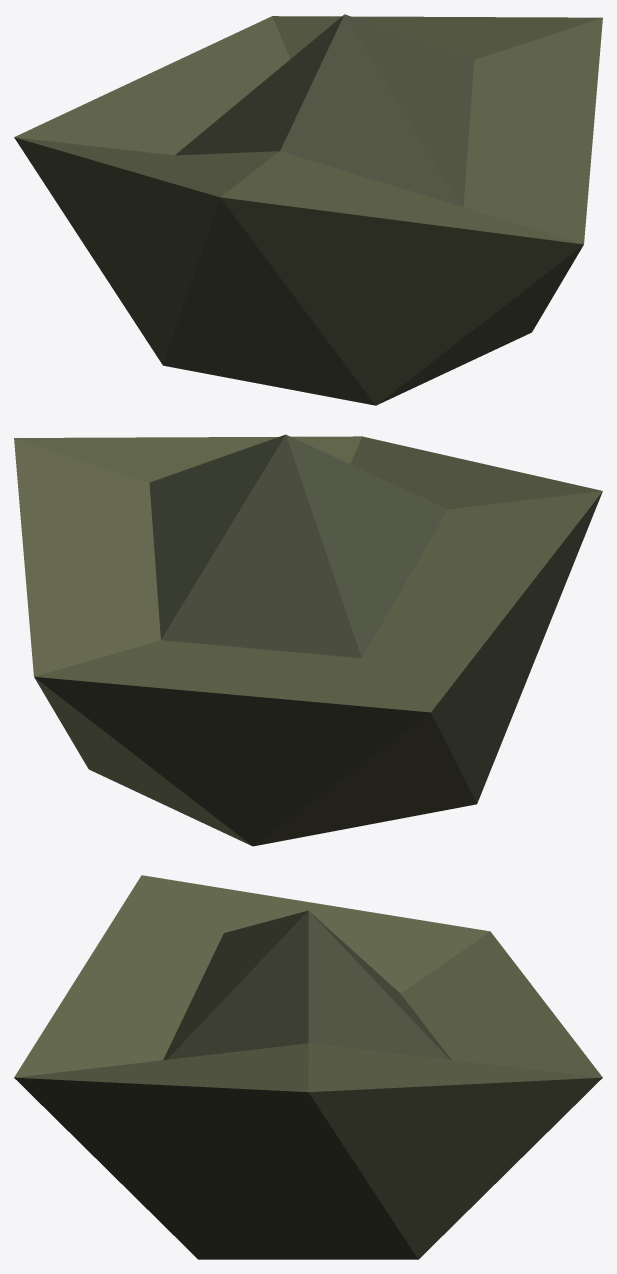
File: TB_D_Env_GrassB_C.FBX
3 views of the same model, one above another, from view 1: azimuth 30°, elevation 25°; view 2: azimuth 150°, elevation 25°; view 3: azimuth 270°, elevation 25° (orthographic). The views are drawn at different scales.
Parts seen in each view (by area): view 1: TB_D_Env_GrassB_C; view 2: TB_D_Env_GrassB_C; view 3: TB_D_Env_GrassB_C.
Boxes of the visible parts, x1=… form: TB_D_Env_GrassB_C: x1=14, y1=14, x2=602, y2=405; TB_D_Env_GrassB_C: x1=14, y1=434, x2=602, y2=846; TB_D_Env_GrassB_C: x1=14, y1=875, x2=602, y2=1259.
Bounding box in the file's own units: 1.26 × 0.7536 × 1.39.
